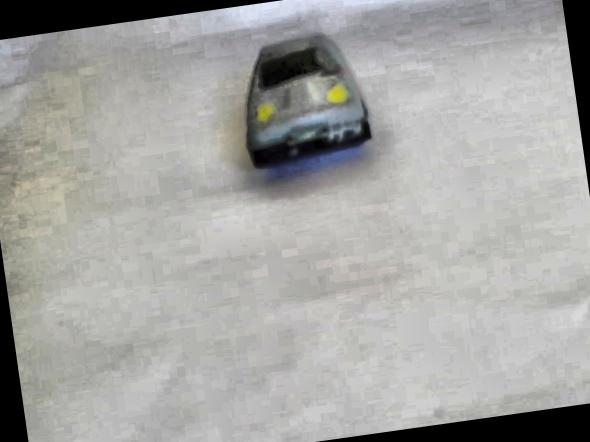normal_car: (226, 25, 378, 171)
